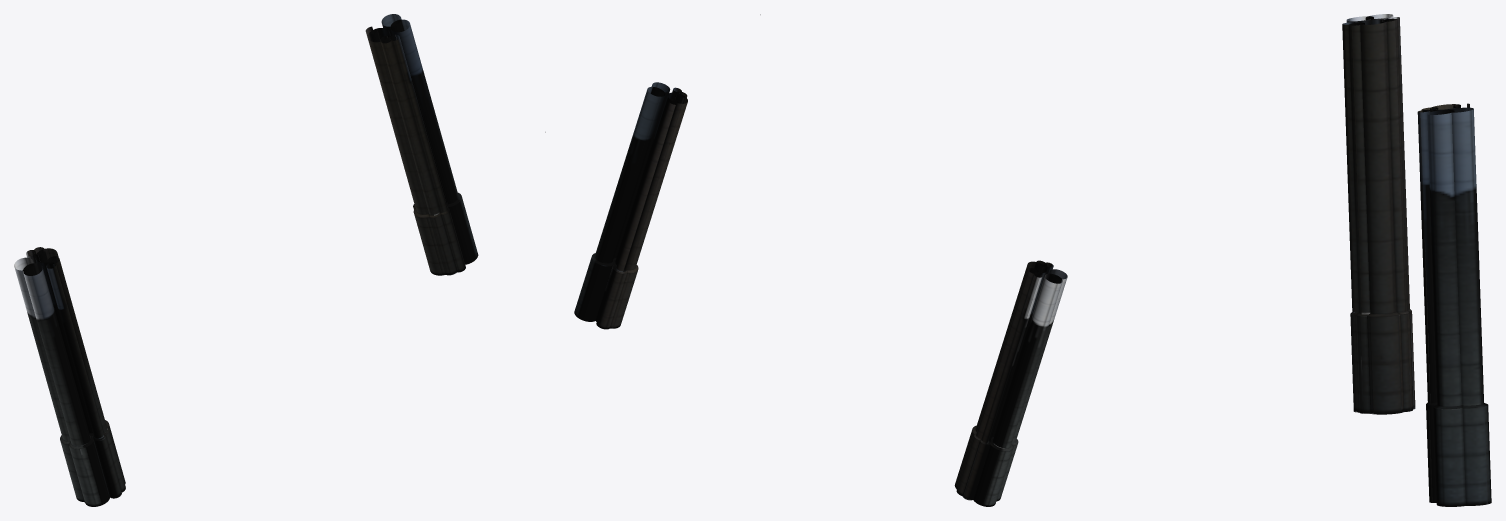
Rendered from InnerPillar_two.obj.
3 views of the same model, side by side, from view 1: azimuth 30°, elevation 25°; view 2: azimuth 150°, elevation 25°; view 3: azimuth 270°, elevation 25° (orthographic). The views are drawn at different scales.
Visible parts, largest first — view 1: Cylinder.004_0.001; view 2: Cylinder.004_0.001; view 3: Cylinder.004_0.001.
Part boxes in pixels (box(x1,y1,x2,y2)): Cylinder.004_0.001: box(14, 14, 545, 506); Cylinder.004_0.001: box(574, 14, 1067, 506); Cylinder.004_0.001: box(1342, 14, 1491, 506).
Size of the model in its own units: 13.98 by 10.46 by 7.17.
